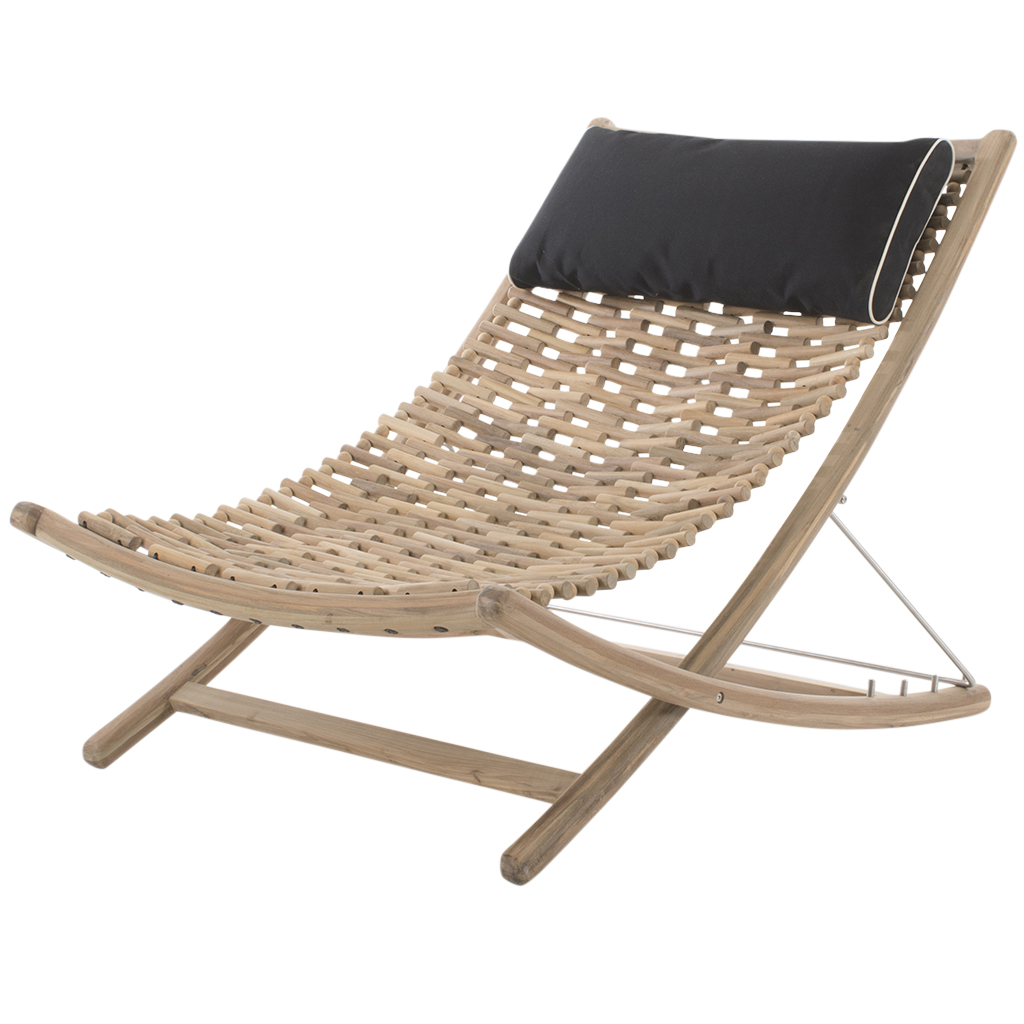chairs: (14, 107, 1019, 888)
